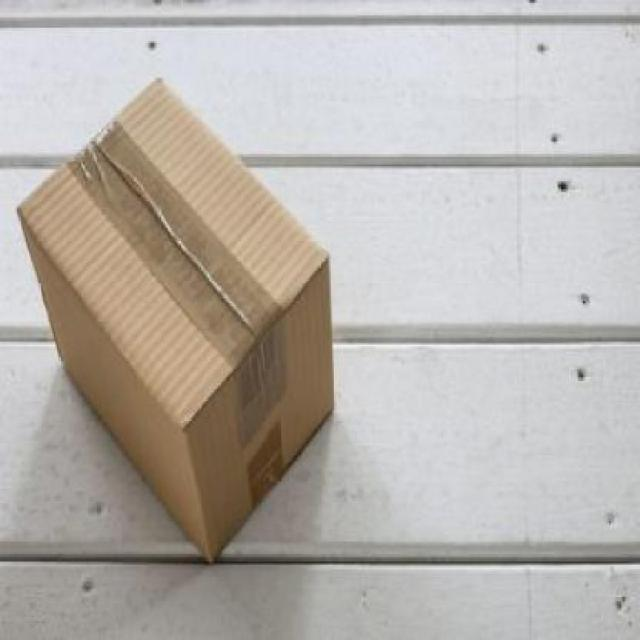cardboxes: (11, 70, 352, 582)
